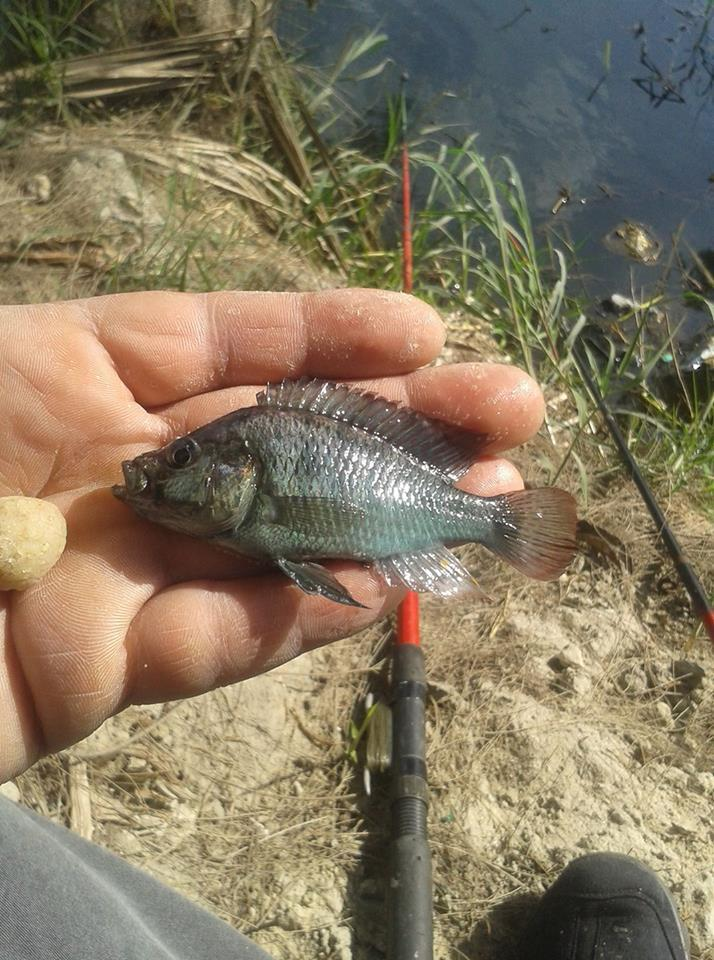Climbing Perch: (126, 370, 585, 588)
